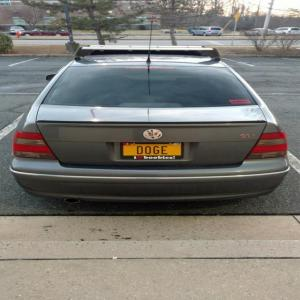Plate: (120, 142, 183, 159)
